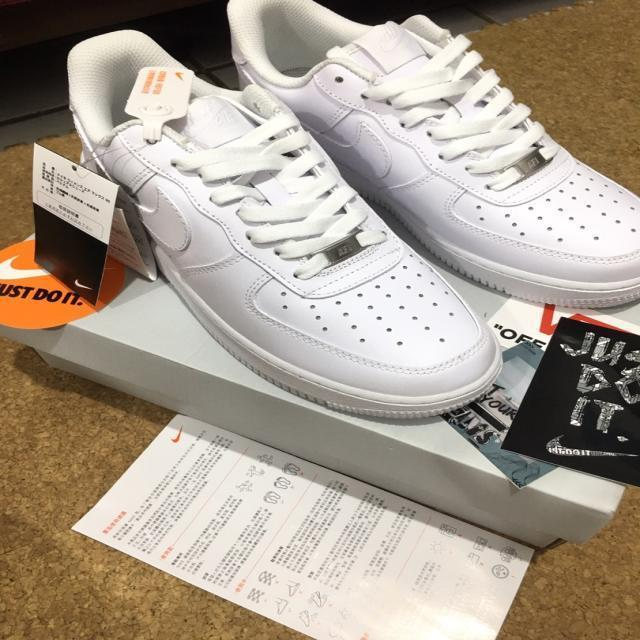nike original air force: (63, 23, 530, 419), (222, 0, 640, 313)
